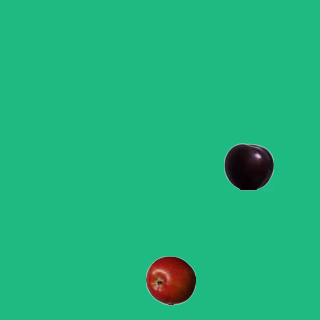Apple Braeburn: (145, 255, 195, 305)
Cherry Wax Black: (223, 141, 273, 191)
